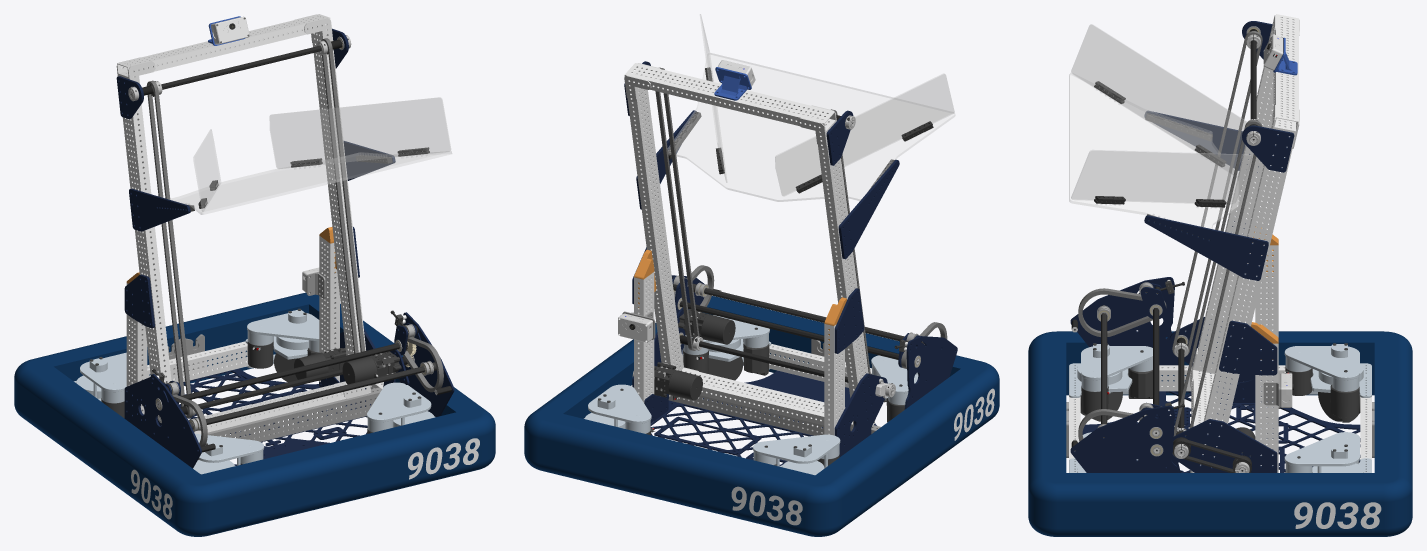
The picture shows the model from 3 angles, left to right: view 1: azimuth 30°, elevation 25°; view 2: azimuth 150°, elevation 25°; view 3: azimuth 270°, elevation 25°; orthographic projection. The views are drawn at different scales.
Parts seen in each view (by area): view 1: Bumpers, Centering Plate (×2), Simplified MK4i (×4), Tube 2"x1"x33" (×2), 256L #25 Chain (×2), Intake Plate, Tube 2"x1"x21" (×2), mounting plate (×2), Tube 2"x1"x15" (×2), Tube 2"x1"x24", Bellypan, Intake Gusset (×2) (+11 smaller); view 2: Bumpers, Intake Plate, Tube 2"x1"x33" (×2), Simplified MK4i (×4), Tube 2"x1"x21" (×2), Centering Plate (×2), Bellypan, Tube 2"x1"x15" (×2), 256L #25 Chain, mounting plate, Bottom Gusset, Tube 2"x1"x24" (+10 smaller); view 3: Bumpers, Centering Plate (×2), Intake Plate, Simplified MK4i (×3), Tube 2"x1"x33" (×2), mounting plate (×2), Intake Gusset (×2), 256L #25 Chain (×2), Bottom Gusset (×2), Tube 2"x1"x15" (×2), Tube 2"x1"x21" (×2), Bellypan (+15 smaller).
Boxes of the visible parts, x1,y1,x2,y2 form: Bumpers: [14, 292, 495, 536]; Centering Plate (×2): [193, 97, 450, 211]; Simplified MK4i (×4): [74, 308, 435, 474]; Tube 2"x1"x33" (×2): [118, 29, 365, 383]; 256L #25 Chain (×2): [146, 38, 365, 418]; Intake Plate: [169, 151, 451, 214]; Tube 2"x1"x21" (×2): [117, 14, 370, 434]; mounting plate (×2): [148, 312, 454, 468]; Tube 2"x1"x15" (×2): [126, 236, 339, 414]; Tube 2"x1"x24": [207, 387, 381, 441]; Bellypan: [178, 368, 370, 465]; Intake Gusset (×2): [129, 141, 395, 231]; Bumpers: [524, 296, 999, 536]; Intake Plate: [668, 53, 955, 201]; Tube 2"x1"x33" (×2): [627, 84, 868, 397]; Simplified MK4i (×4): [584, 315, 918, 475]; Tube 2"x1"x21" (×2): [624, 63, 874, 426]; Centering Plate (×2): [700, 14, 954, 196]; Bellypan: [650, 370, 876, 465]; Tube 2"x1"x15" (×2): [634, 272, 844, 435]; 256L #25 Chain: [655, 67, 699, 350]; mounting plate: [904, 336, 957, 409]; Bottom Gusset: [834, 373, 887, 456]; Tube 2"x1"x24": [668, 394, 880, 435]; Bumpers: [1028, 331, 1412, 536]; Centering Plate (×2): [1071, 24, 1251, 204]; Intake Plate: [1069, 73, 1239, 228]; Simplified MK4i (×3): [1069, 343, 1371, 472]; Tube 2"x1"x33" (×2): [1194, 66, 1296, 465]; mounting plate (×2): [1070, 277, 1178, 472]; Intake Gusset (×2): [1144, 111, 1268, 280]; 256L #25 Chain (×2): [1172, 31, 1262, 436]; Bottom Gusset (×2): [1169, 317, 1277, 472]; Tube 2"x1"x15" (×2): [1255, 245, 1278, 472]; Tube 2"x1"x21" (×2): [1191, 14, 1298, 472]; Bellypan: [1082, 391, 1360, 472].
Bounding box in the file's own units: 0.8387 × 1.03 × 0.8387.
